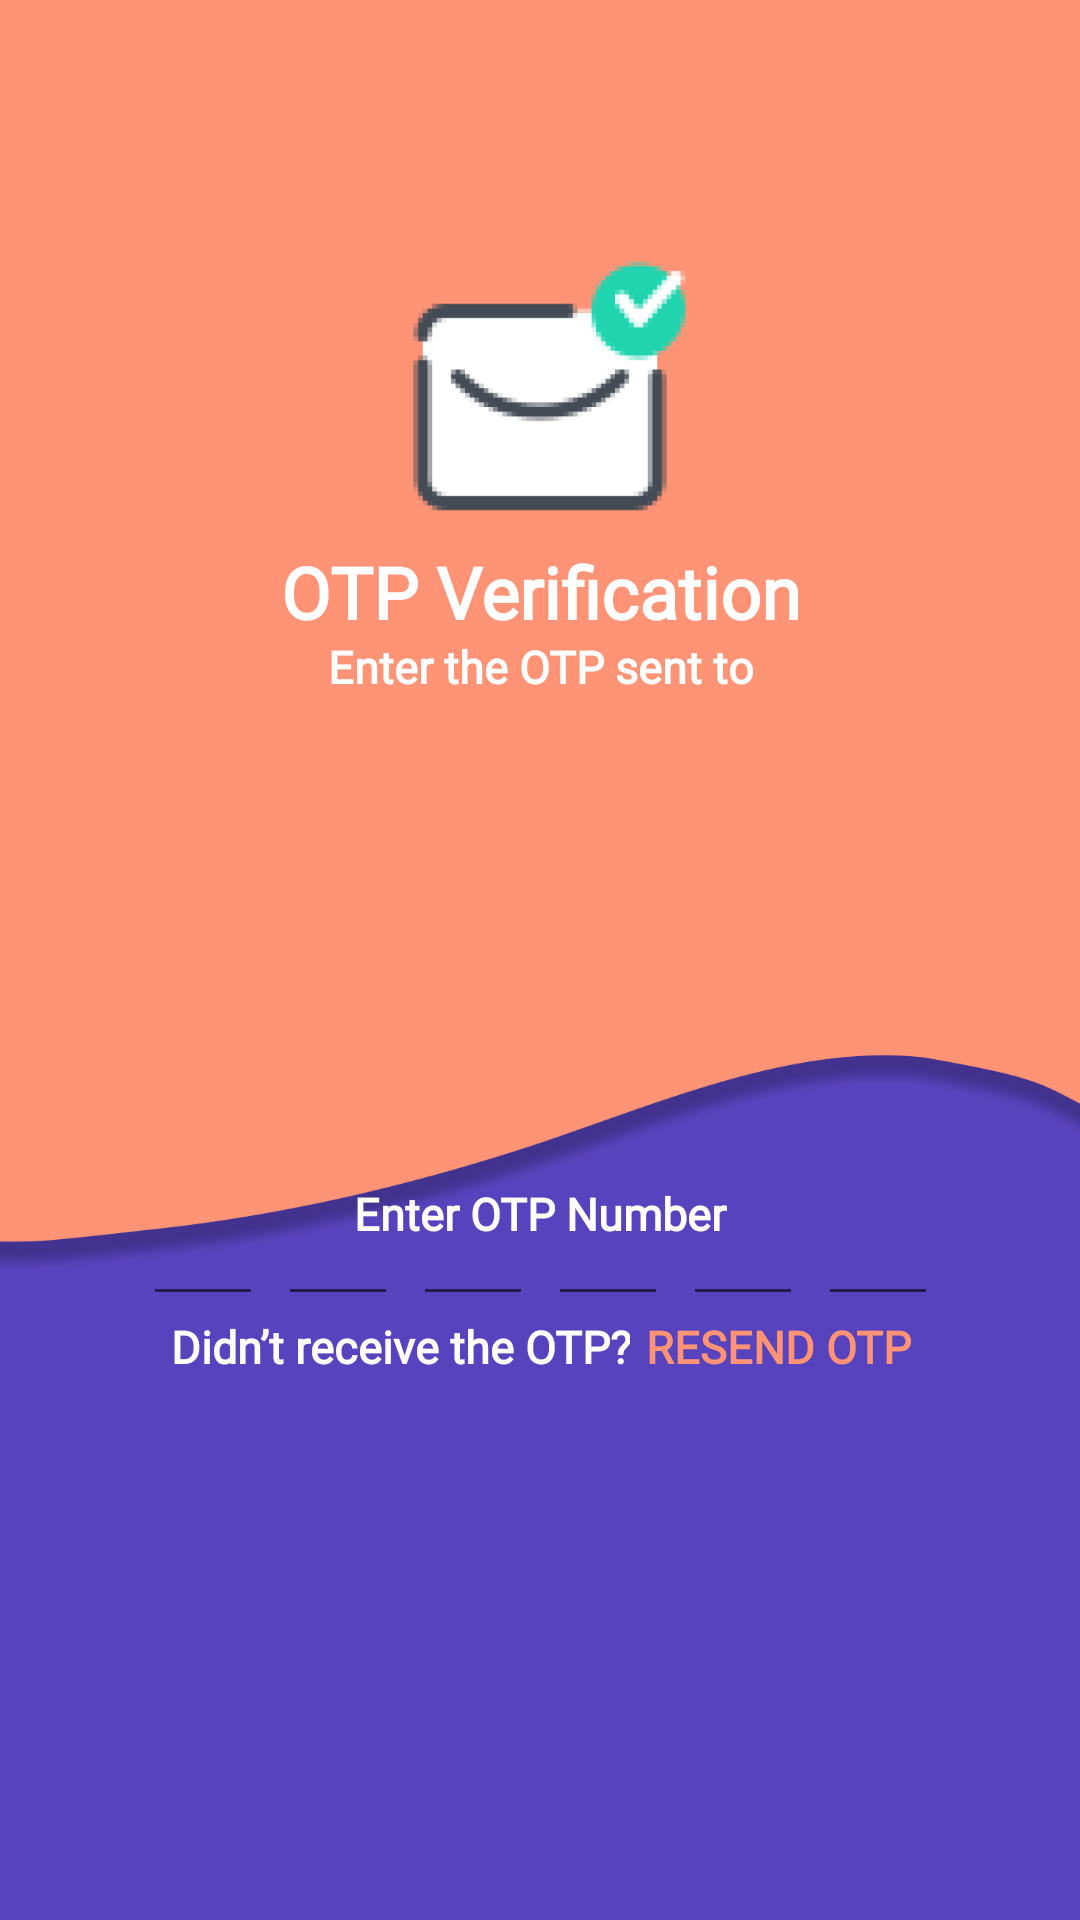

Icons on this 1080px x 1920px Android screen, each with the point to tap as (x=x, y=y):
mailotp: (x=549, y=386)
